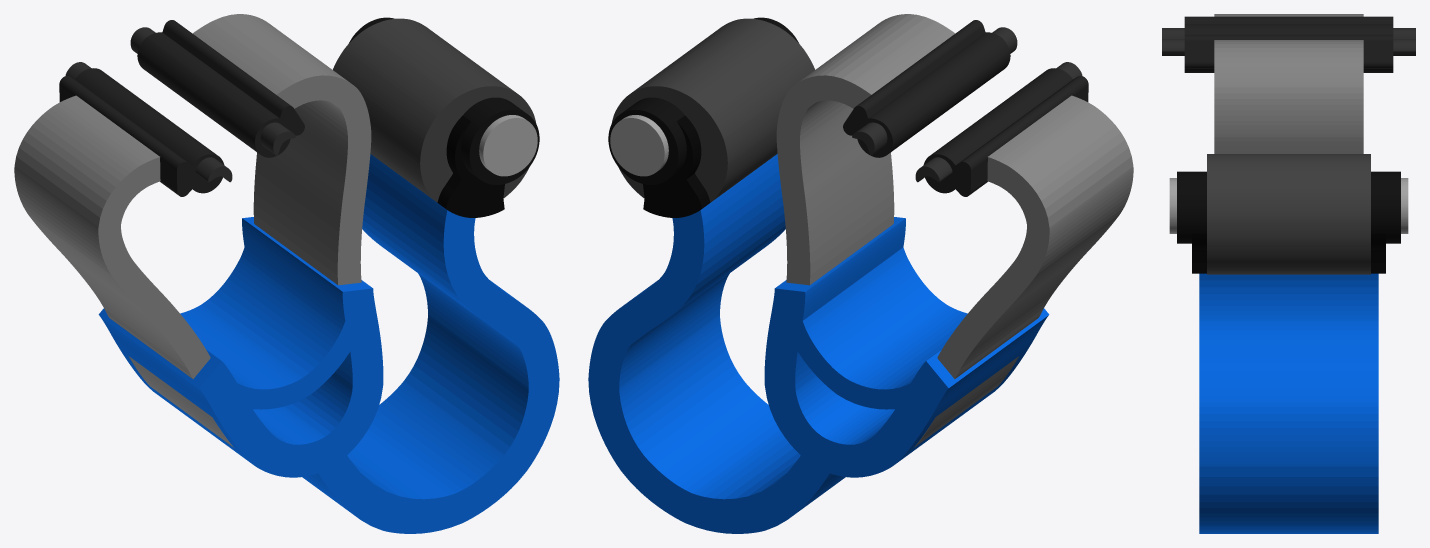
3 renders of one model, left to right at view 1: azimuth 30°, elevation 25°; view 2: azimuth 150°, elevation 25°; view 3: azimuth 270°, elevation 25°, orthographic. The views are drawn at different scales.
Visible parts, largest first — view 1: U+1FA7A_layer02_obj02, U+1FA7A_layer00_obj00, U+1FA7A_layer00_obj01, U+1FA7A_layer02_obj00, U+1FA7A_layer01_obj00, U+1FA7A_layer02_obj01, U+1FA7A_layer04_obj01, U+1FA7A_layer04_obj00, U+1FA7A_layer03_obj00, U+1FA7A_layer05_obj00, U+1FA7A_layer06_obj00, U+1FA7A_layer07_obj01 (+1 smaller); view 2: U+1FA7A_layer02_obj02, U+1FA7A_layer00_obj00, U+1FA7A_layer00_obj01, U+1FA7A_layer02_obj00, U+1FA7A_layer01_obj00, U+1FA7A_layer02_obj01, U+1FA7A_layer04_obj01, U+1FA7A_layer04_obj00, U+1FA7A_layer03_obj00, U+1FA7A_layer05_obj00, U+1FA7A_layer06_obj00, U+1FA7A_layer07_obj01 (+1 smaller); view 3: U+1FA7A_layer02_obj02, U+1FA7A_layer01_obj00, U+1FA7A_layer00_obj01, U+1FA7A_layer05_obj00, U+1FA7A_layer04_obj00, U+1FA7A_layer04_obj01, U+1FA7A_layer03_obj00, U+1FA7A_layer06_obj00, U+1FA7A_layer07_obj01, U+1FA7A_layer07_obj00, U+1FA7A_layer00_obj00.
Part boxes in pixels (<box>): U+1FA7A_layer02_obj02: <box>302,154,559,533</box>; U+1FA7A_layer00_obj00: <box>14,95,233,447</box>; U+1FA7A_layer00_obj01: <box>193,14,371,285</box>; U+1FA7A_layer02_obj00: <box>98,217,383,477</box>; U+1FA7A_layer01_obj00: <box>333,18,536,202</box>; U+1FA7A_layer02_obj01: <box>180,247,369,409</box>; U+1FA7A_layer04_obj01: <box>137,20,304,157</box>; U+1FA7A_layer04_obj00: <box>59,68,224,196</box>; U+1FA7A_layer03_obj00: <box>437,115,504,217</box>; U+1FA7A_layer05_obj00: <box>349,17,539,184</box>; U+1FA7A_layer06_obj00: <box>479,115,537,176</box>; U+1FA7A_layer07_obj01: <box>130,27,295,155</box>; U+1FA7A_layer02_obj02: <box>588,154,845,533</box>; U+1FA7A_layer00_obj00: <box>914,95,1133,447</box>; U+1FA7A_layer00_obj01: <box>776,14,954,285</box>; U+1FA7A_layer02_obj00: <box>764,217,1049,477</box>; U+1FA7A_layer01_obj00: <box>611,18,814,202</box>; U+1FA7A_layer02_obj01: <box>778,247,967,409</box>; U+1FA7A_layer04_obj01: <box>843,20,1010,157</box>; U+1FA7A_layer04_obj00: <box>923,68,1088,196</box>; U+1FA7A_layer03_obj00: <box>643,115,710,217</box>; U+1FA7A_layer05_obj00: <box>608,17,798,184</box>; U+1FA7A_layer06_obj00: <box>610,115,668,176</box>; U+1FA7A_layer07_obj01: <box>852,27,1017,155</box>; U+1FA7A_layer02_obj02: <box>1199,273,1378,533</box>; U+1FA7A_layer01_obj00: <box>1207,154,1370,274</box>; U+1FA7A_layer00_obj01: <box>1214,40,1363,153</box>; U+1FA7A_layer05_obj00: <box>1177,171,1400,243</box>; U+1FA7A_layer04_obj00: <box>1184,16,1393,34</box>; U+1FA7A_layer04_obj01: <box>1184,35,1393,72</box>; U+1FA7A_layer03_obj00: <box>1192,233,1385,273</box>; U+1FA7A_layer06_obj00: <box>1169,178,1408,233</box>; U+1FA7A_layer07_obj01: <box>1162,39,1415,55</box>; U+1FA7A_layer07_obj00: <box>1162,28,1415,38</box>; U+1FA7A_layer00_obj00: <box>1214,14,1363,16</box>.
Size of the model in its own units: 0.3114 by 0.3133 by 0.17.
